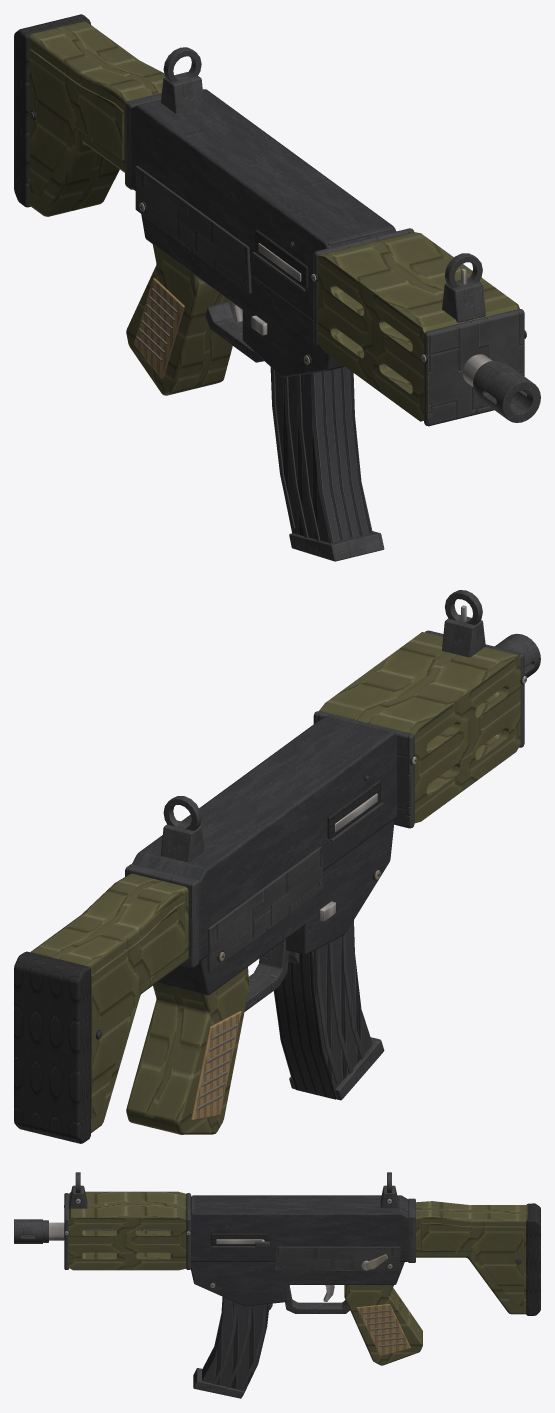
The model's file is SM_TunaWeapon_SMG_Standard.fbx.
3 renders of one model, top to bottom at view 1: azimuth 30°, elevation 25°; view 2: azimuth 150°, elevation 25°; view 3: azimuth 270°, elevation 25°, orthographic. The views are drawn at different scales.
Parts seen in each view (by area): view 1: SM_TunaWeapon_SMG_Standard; view 2: SM_TunaWeapon_SMG_Standard; view 3: SM_TunaWeapon_SMG_Standard.
Part boxes in pixels (<box>): SM_TunaWeapon_SMG_Standard: <box>14,14,540,561</box>; SM_TunaWeapon_SMG_Standard: <box>14,590,540,1143</box>; SM_TunaWeapon_SMG_Standard: <box>14,1172,540,1398</box>.
Size of what is drawn, in the model's own units: 5.99 by 48 by 21.98.
